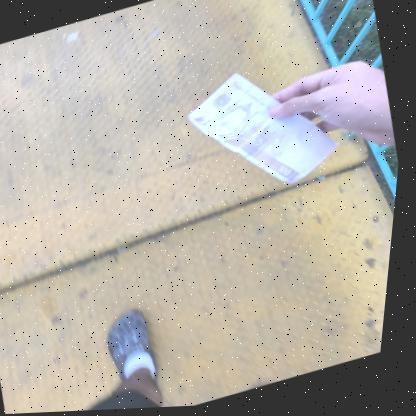one_hundred-back-vef: (174, 48, 357, 214)
